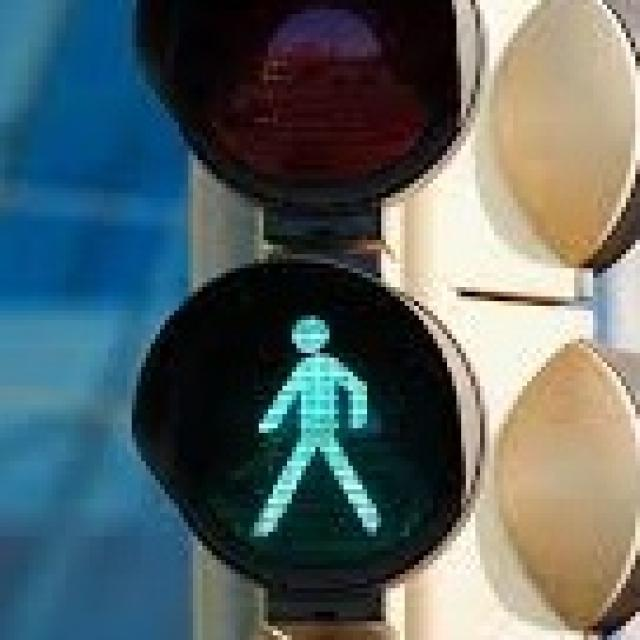geen-crossing: (226, 292, 395, 550)
